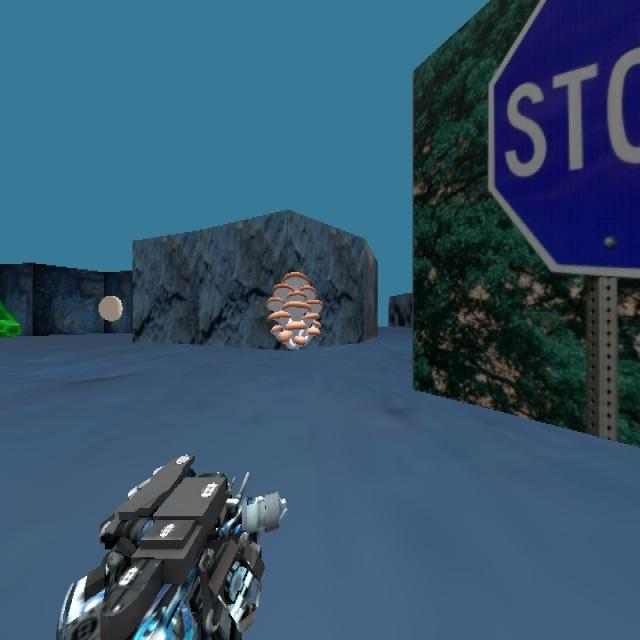Circle: (92, 282, 133, 331)
Diamon: (0, 295, 24, 337)
Mushroom: (266, 270, 322, 350)
Stop_Sign: (486, 0, 639, 279)
